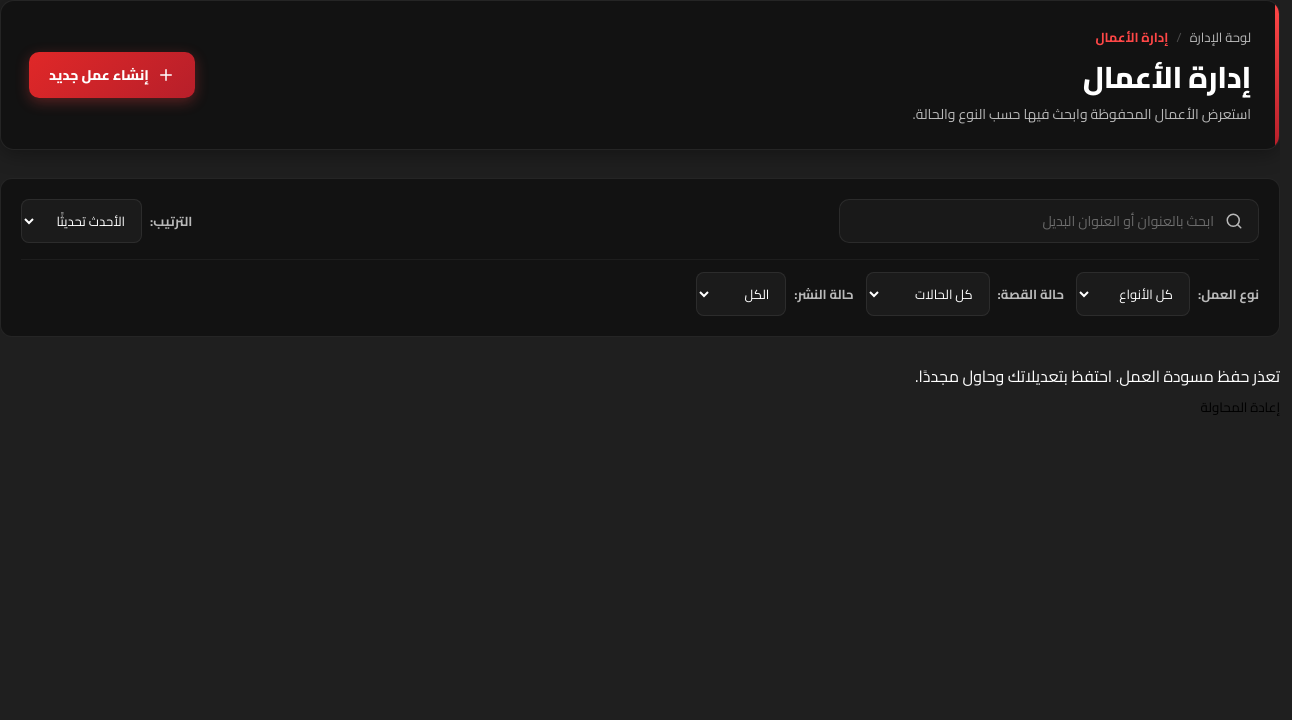
Test case: saved administrative works › does not replace unavailable data with fixtures and allows retry
Expected: the message "تعذر حفظ مسودة العمل. احتفظ بتعديلاتك وحاول مجددًا. إعادة المحاولة" is shown, 915,361 -> 1280,420
Expected: the text "عمل محفوظ" is not shown
Step 1. Click the button "إعادة المحاولة" → {"x": 1240, "y": 407}, box 1201,395 -> 1280,420
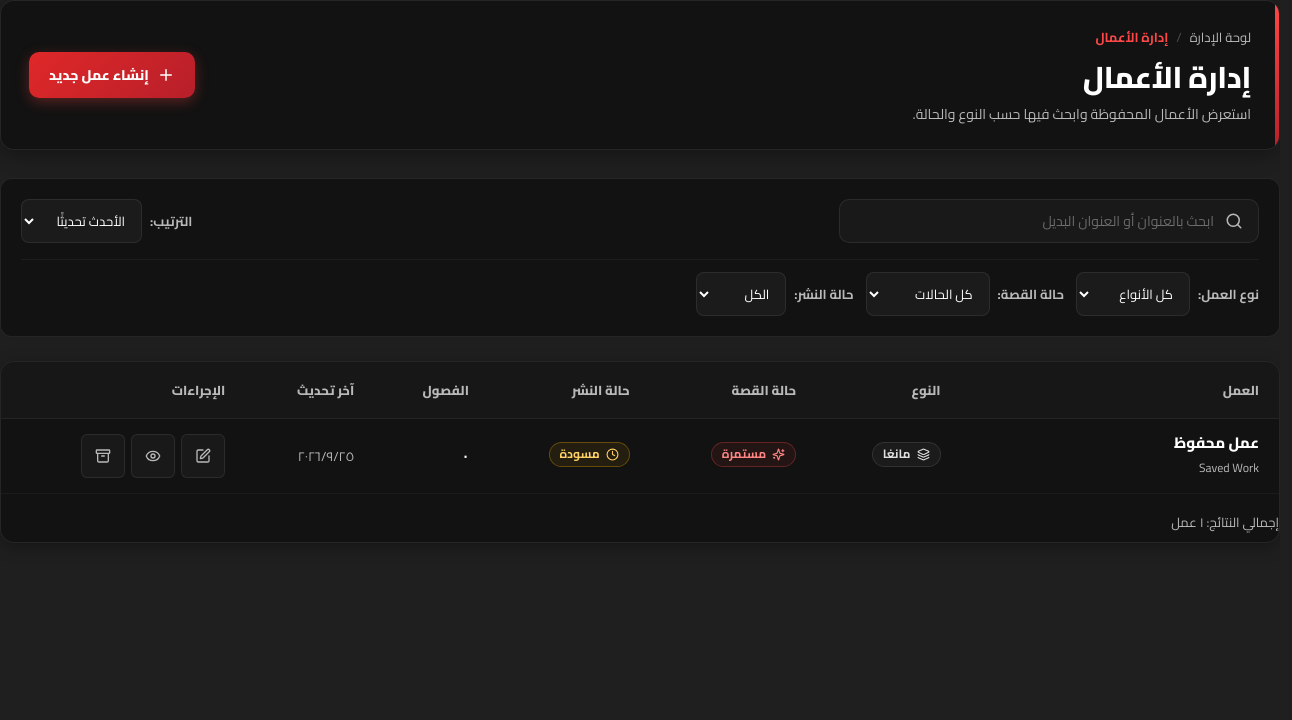
Expected: the text "عمل محفوظ" is shown, 1174,433 -> 1259,452
